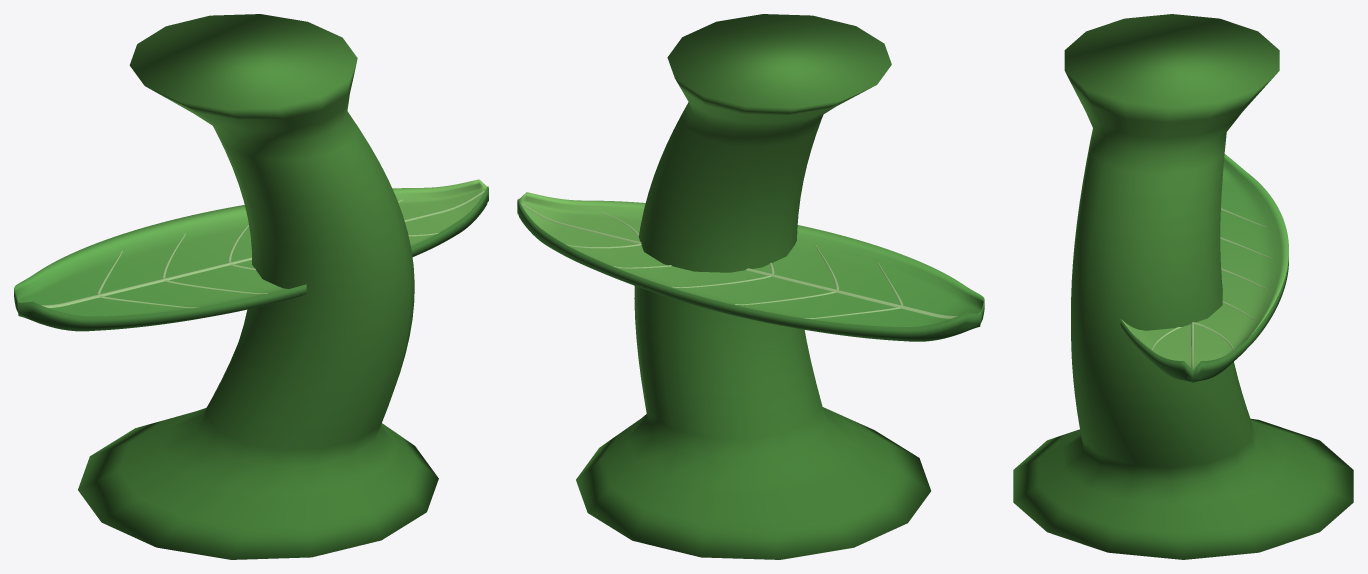
File: LeafPad.fbx
The picture shows the model from 3 angles, left to right: view 1: azimuth 30°, elevation 25°; view 2: azimuth 150°, elevation 25°; view 3: azimuth 270°, elevation 25°; orthographic projection. The views are drawn at different scales.
Parts seen in each view (by area): view 1: Stalk, Leaf; view 2: Stalk, Leaf; view 3: Stalk, Leaf.
Boxes of the visible parts, bbox=[...] form: Stalk: bbox=[78, 14, 438, 559]; Leaf: bbox=[14, 179, 488, 331]; Stalk: bbox=[576, 14, 930, 559]; Leaf: bbox=[517, 192, 984, 341]; Stalk: bbox=[1013, 14, 1353, 559]; Leaf: bbox=[1120, 154, 1288, 382].
Bounding box in the file's own units: 1.14 × 1 × 0.7409.
